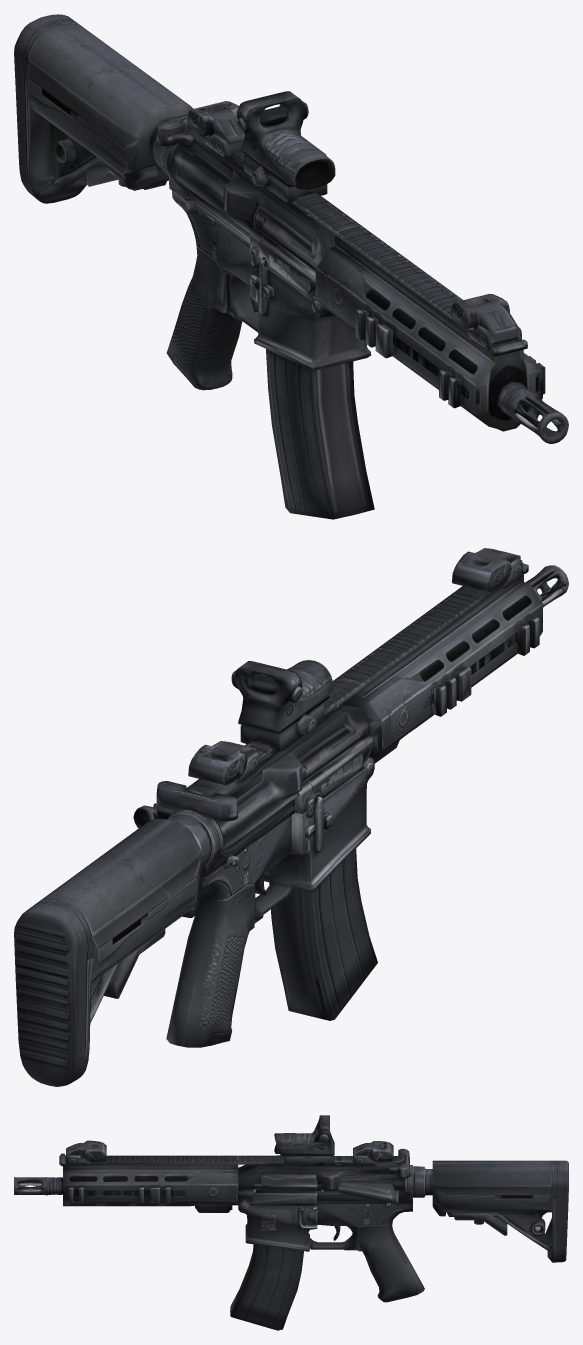
File: 突击步枪.glb
3 renders of one model, top to bottom at view 1: azimuth 30°, elevation 25°; view 2: azimuth 150°, elevation 25°; view 3: azimuth 270°, elevation 25°, orthographic. The views are drawn at different scales.
Visible parts, largest first — view 1: tripo_node_29b3d9fb-3c01-488f-8da7-71c8de32a8ed; view 2: tripo_node_29b3d9fb-3c01-488f-8da7-71c8de32a8ed; view 3: tripo_node_29b3d9fb-3c01-488f-8da7-71c8de32a8ed.
Boxes of the visible parts, bbox=[...] form: tripo_node_29b3d9fb-3c01-488f-8da7-71c8de32a8ed: bbox=[14, 14, 568, 519]; tripo_node_29b3d9fb-3c01-488f-8da7-71c8de32a8ed: bbox=[14, 548, 568, 1086]; tripo_node_29b3d9fb-3c01-488f-8da7-71c8de32a8ed: bbox=[14, 1115, 568, 1330].
Size of the model in its own units: 0.1255 by 0.4067 by 0.9995.
1 material, 1 textured.
